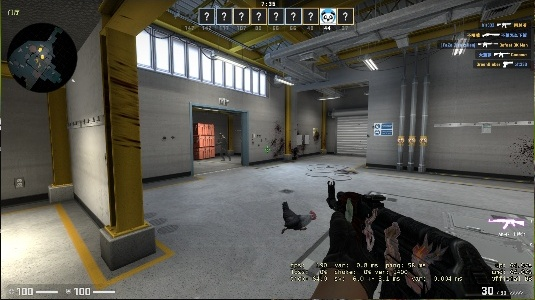body: (216, 133, 232, 163)
head: (219, 132, 224, 138)
